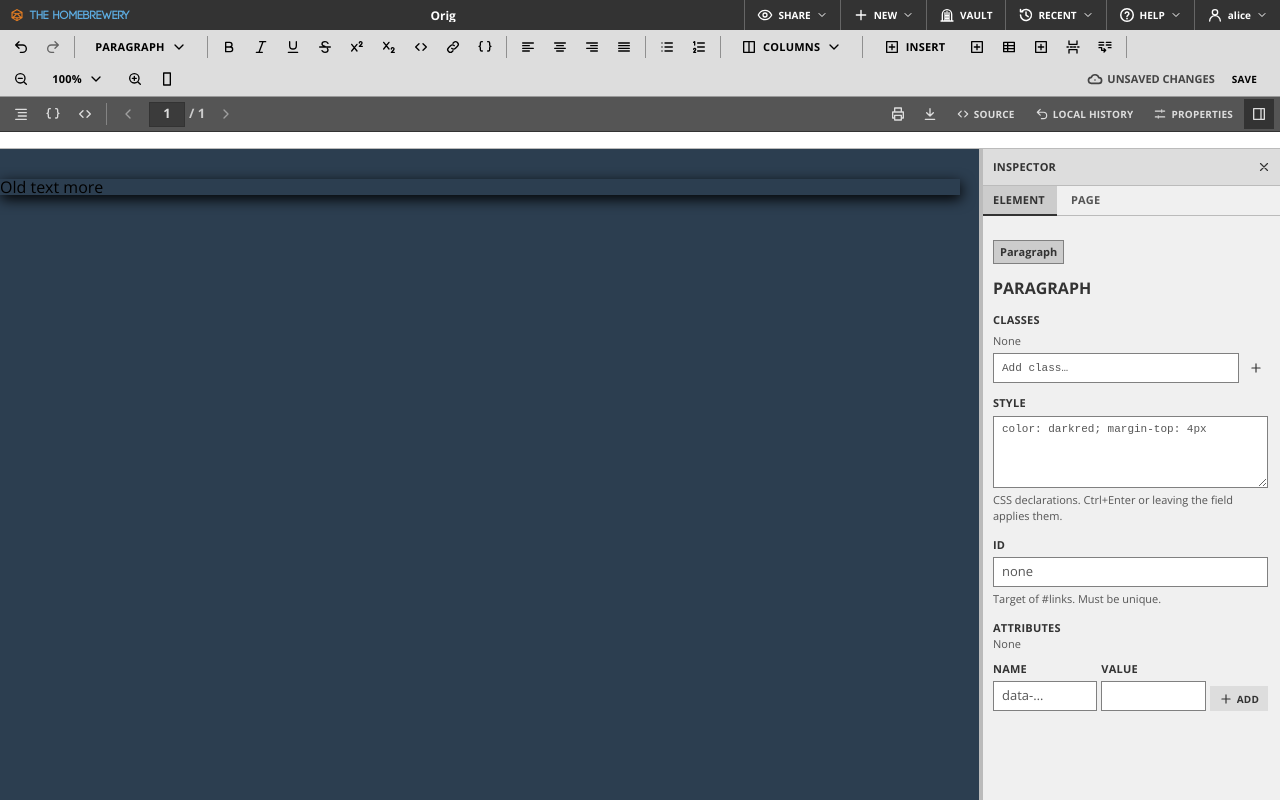
signing out from the navbar while editing › saves the pending changes first, then closes the brew
Click the button with aria-label "Account: alice".
click(1237, 15)  # box x1=1194 y1=0 x2=1279 y2=30
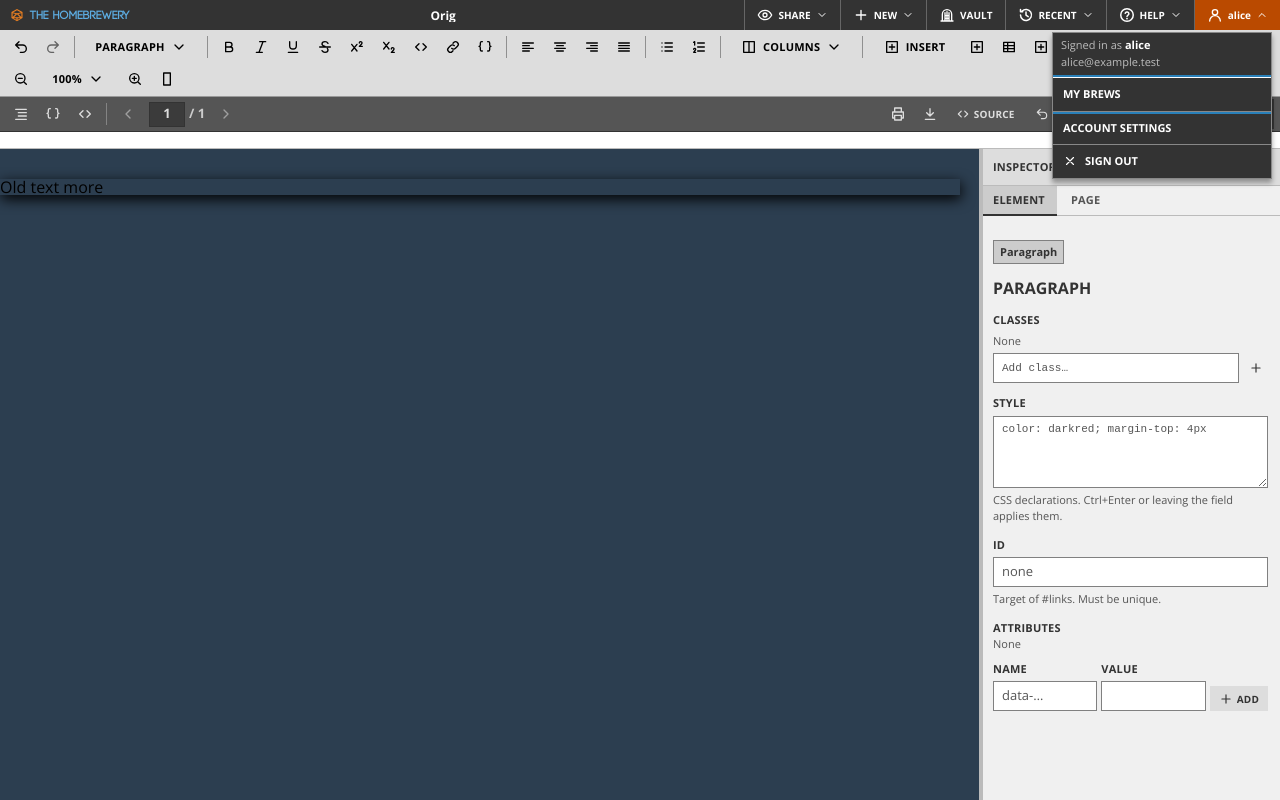
Click the button "Sign out".
click(1162, 161)  # box x1=1053 y1=144 x2=1271 y2=178
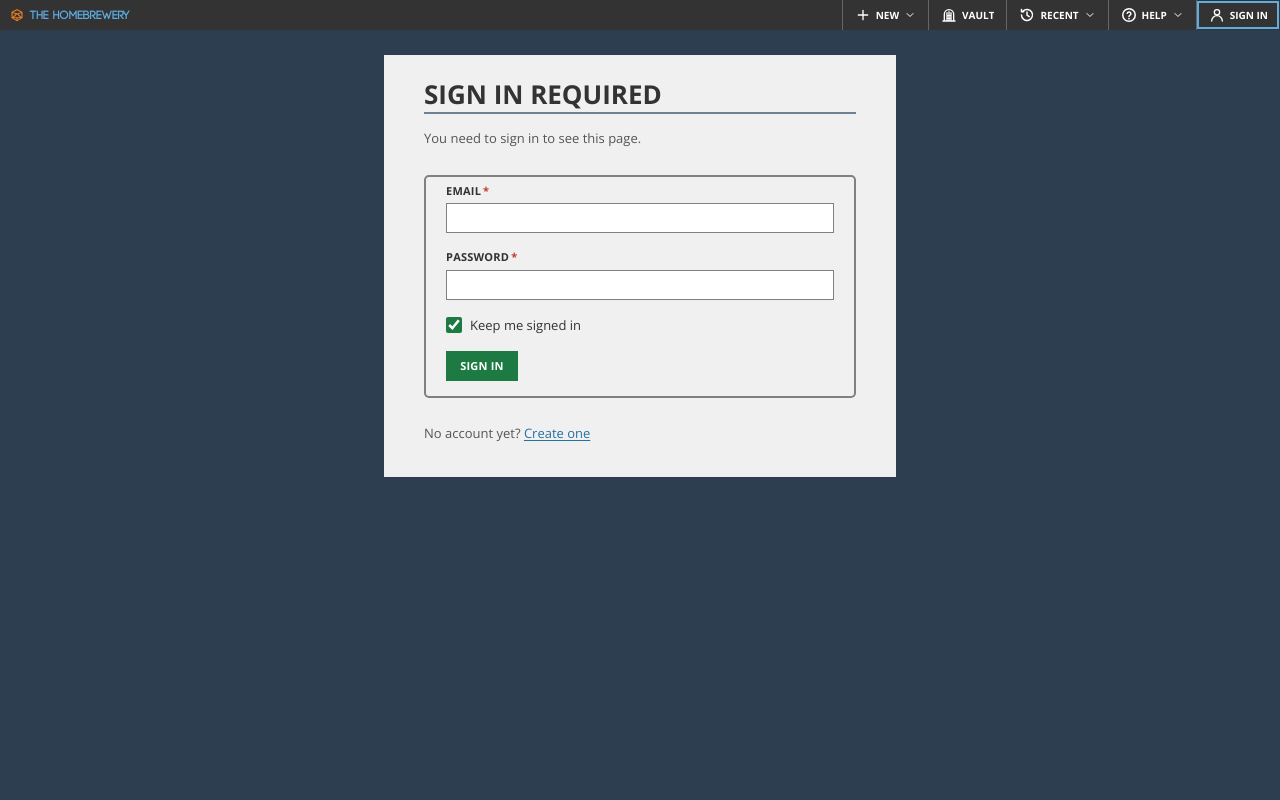
Now the heading "Sign in required" is shown, box x1=424 y1=79 x2=856 y2=114
Now the element with test id "editor-app" is gone
Now the button with test id "open-local-history" is gone
